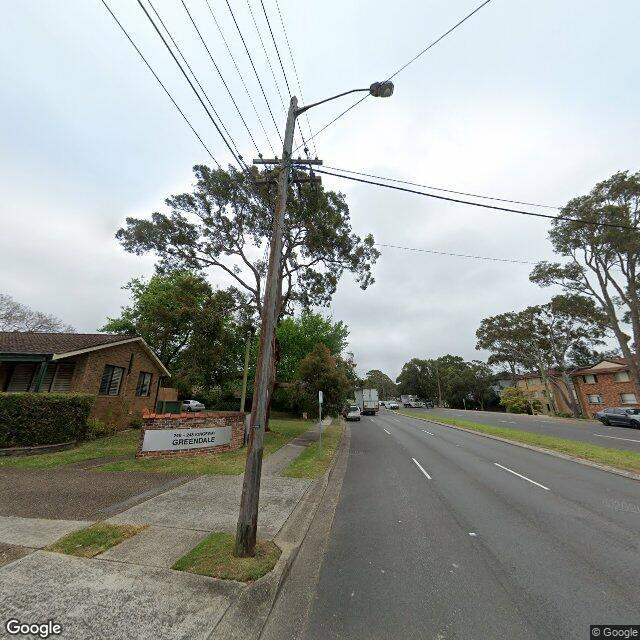crossarm: (255, 176, 321, 186), (253, 158, 323, 166)
streetlight: (295, 80, 395, 117)
timber-pole: (233, 96, 298, 558)
